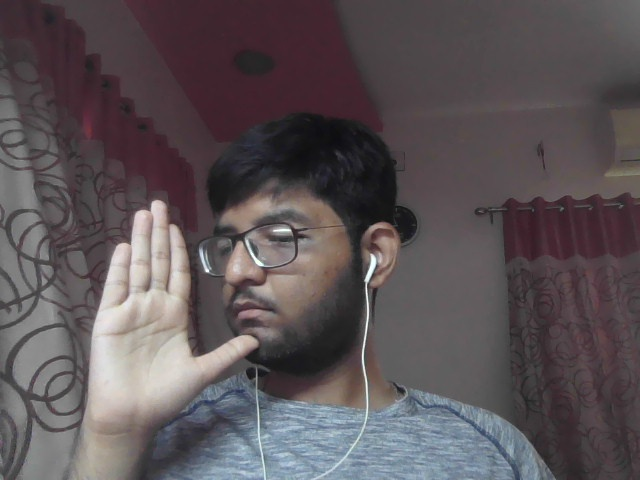માતા: (43, 185, 282, 445)
